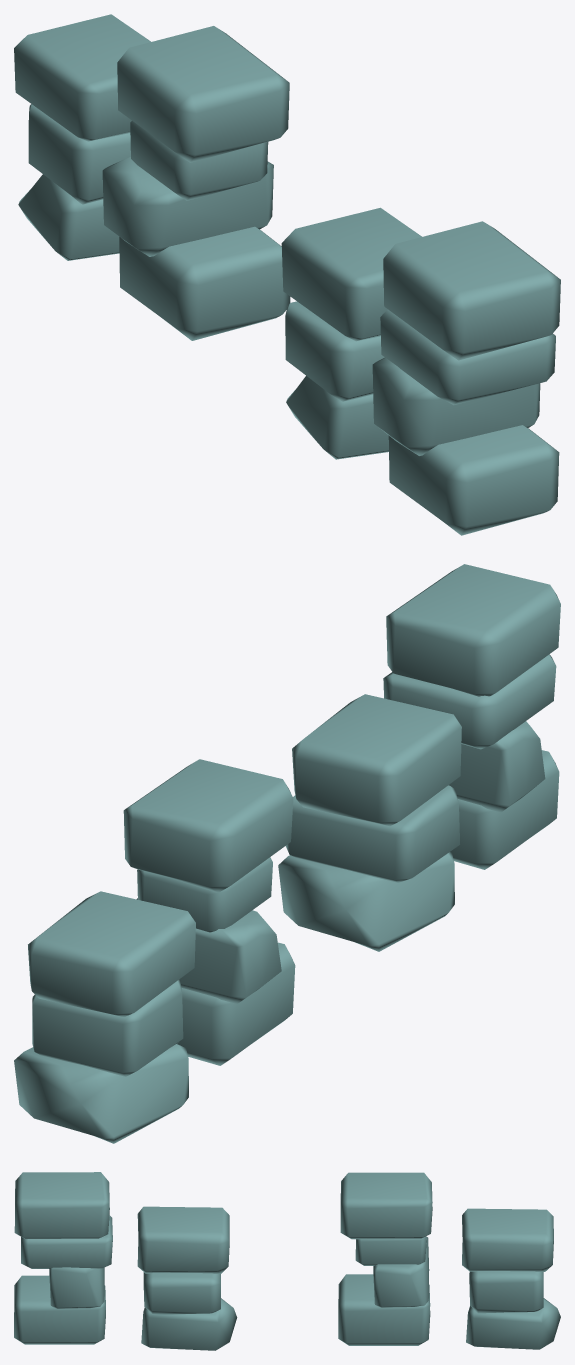
The model's file is Shelf_Grp_05C_Lod0.fbx.
3 renders of one model, top to bottom at view 1: azimuth 30°, elevation 25°; view 2: azimuth 150°, elevation 25°; view 3: azimuth 270°, elevation 25°, orthographic. The views are drawn at different scales.
Parts seen in each view (by area): view 1: Shelf_Grp_05C_Lod0; view 2: Shelf_Grp_05C_Lod0; view 3: Shelf_Grp_05C_Lod0.
Part boxes in pixels (left/top/right/bottom): Shelf_Grp_05C_Lod0: left=14, top=14, right=560, bottom=535; Shelf_Grp_05C_Lod0: left=14, top=564, right=560, bottom=1143; Shelf_Grp_05C_Lod0: left=14, top=1172, right=560, bottom=1350.
Bounding box in the file's own units: 33.58 × 58.15 × 190.
